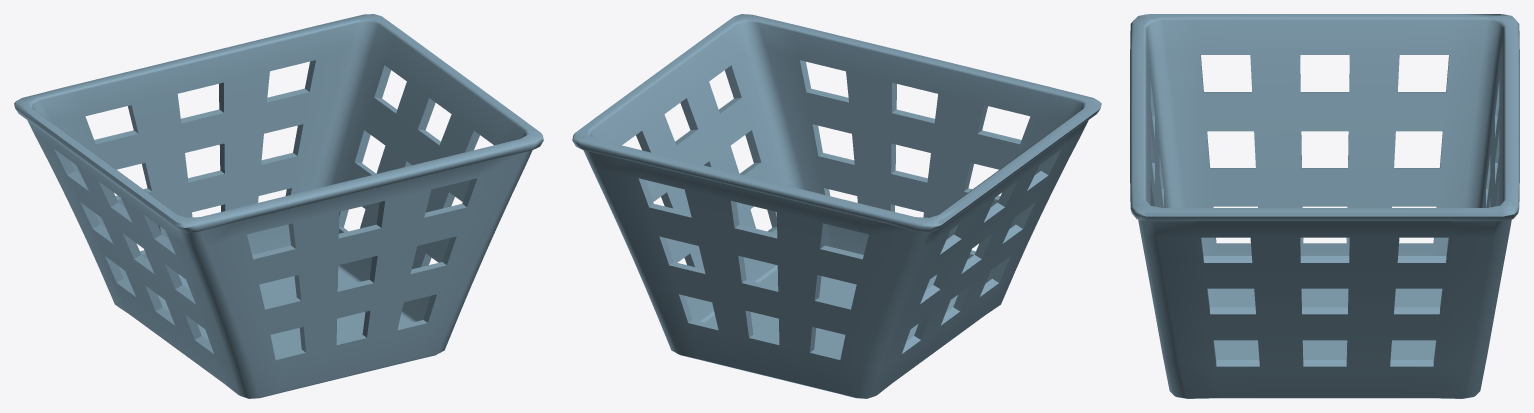
The model's file is Laundry_basket_3.glb.
3 renders of one model, left to right at view 1: azimuth 30°, elevation 25°; view 2: azimuth 150°, elevation 25°; view 3: azimuth 270°, elevation 25°, orthographic. The views are drawn at different scales.
Parts seen in each view (by area): view 1: Laundry_basket_3; view 2: Laundry_basket_3; view 3: Laundry_basket_3.
Boxes of the visible parts, x1=… form: Laundry_basket_3: x1=14, y1=14, x2=543, y2=398; Laundry_basket_3: x1=572, y1=14, x2=1101, y2=398; Laundry_basket_3: x1=1130, y1=14, x2=1519, y2=398.
Size of the model in its own units: 0.4129 by 0.2236 by 0.3398.
1 material, 1 textured.
